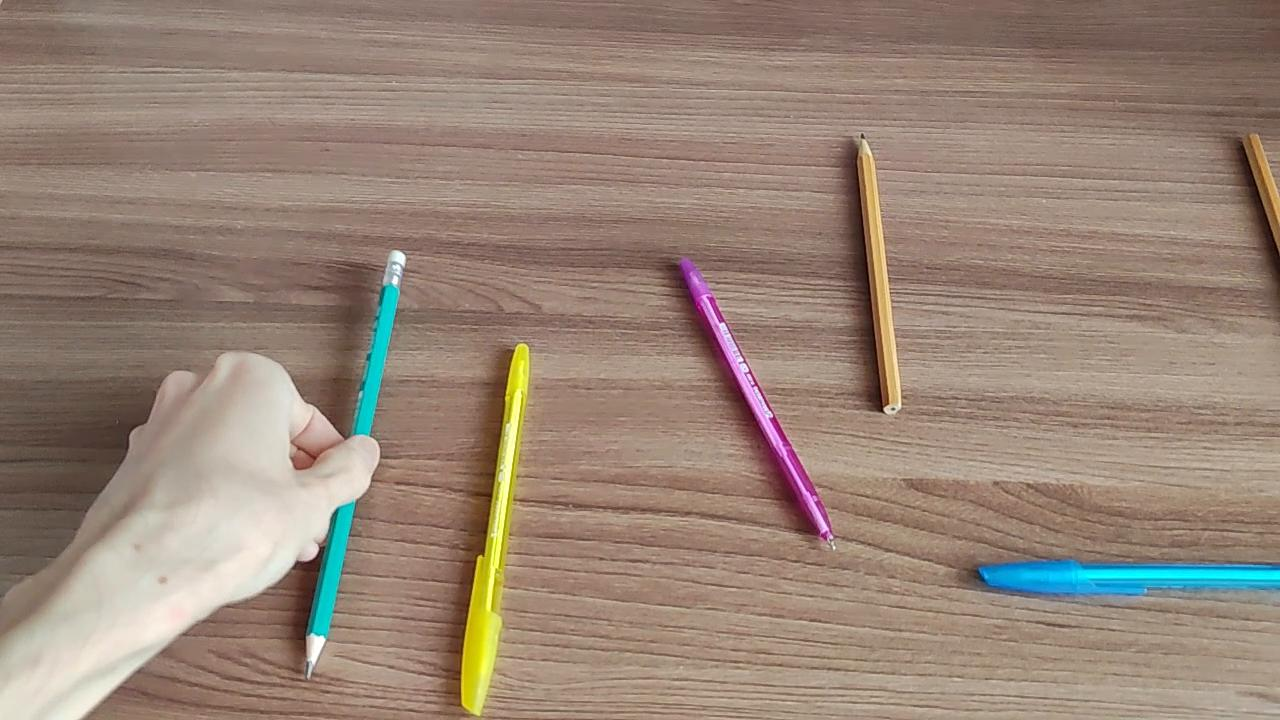pen: (673, 249, 836, 552), (455, 340, 531, 717), (974, 557, 1280, 599)
pencil: (301, 249, 411, 682), (856, 129, 905, 420), (1239, 129, 1280, 260)
